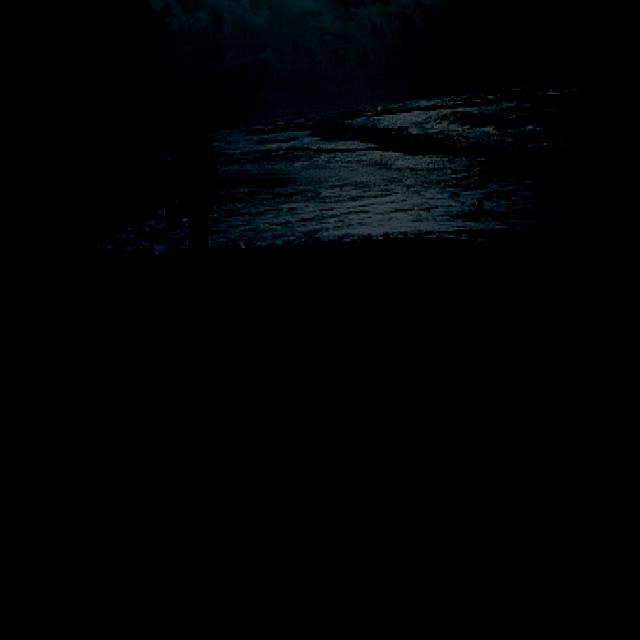Dog: (372, 174, 463, 347)
